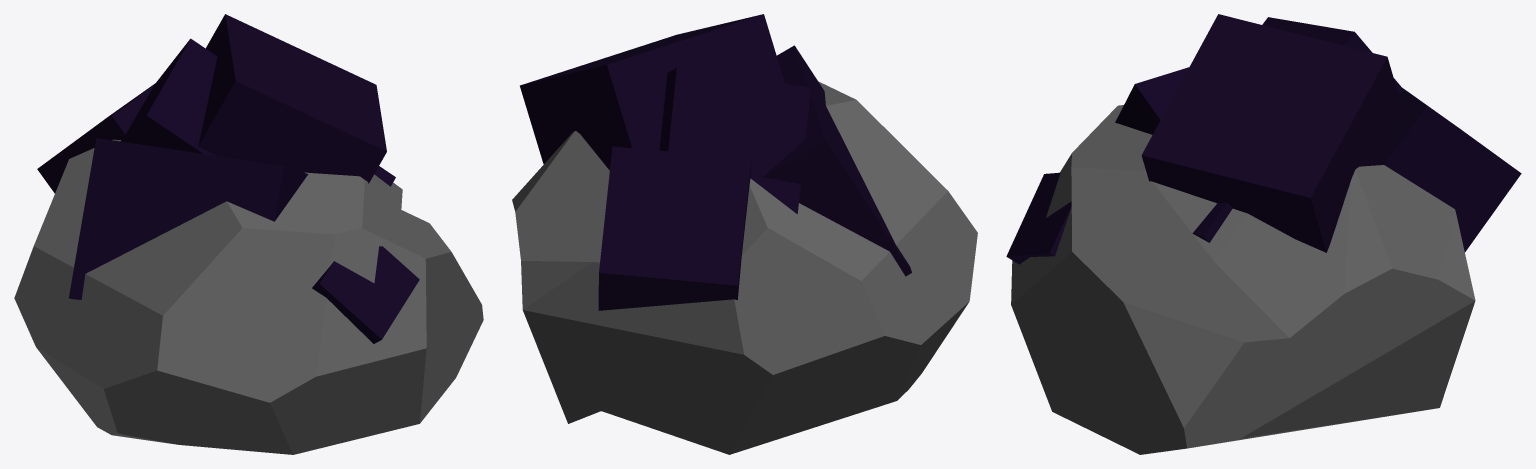
File: coal.fbx
3 views of the same model, side by side, from view 1: azimuth 30°, elevation 25°; view 2: azimuth 150°, elevation 25°; view 3: azimuth 270°, elevation 25° (orthographic). The views are drawn at different scales.
Parts seen in each view (by area): view 1: Sphere, Cube.002, Cube.003, Cube.004, Cube.005, Cube.001; view 2: Sphere, Cube.001, Cube.002, Cube.004, Cube.003; view 3: Sphere, Cube.002, Cube.001, Cube.005, Cube.003, Cube.004.
Part boxes in pixels (<box>): Sphere: <box>14,139,483,454</box>; Cube.002: <box>198,14,386,183</box>; Cube.003: <box>69,138,308,299</box>; Cube.004: <box>120,38,395,186</box>; Cube.005: <box>312,246,419,343</box>; Cube.001: <box>37,83,155,193</box>; Sphere: <box>512,81,977,454</box>; Cube.001: <box>598,146,751,310</box>; Cube.002: <box>520,14,784,170</box>; Cube.004: <box>659,67,810,214</box>; Cube.003: <box>763,45,911,276</box>; Sphere: <box>1011,105,1475,454</box>; Cube.002: <box>1141,14,1404,252</box>; Cube.001: <box>1384,88,1521,251</box>; Cube.005: <box>1006,172,1071,264</box>; Cube.003: <box>1115,67,1188,134</box>; Cube.004: <box>1192,17,1402,242</box>.
Bounding box in the file's own units: 675 × 515 × 683.
